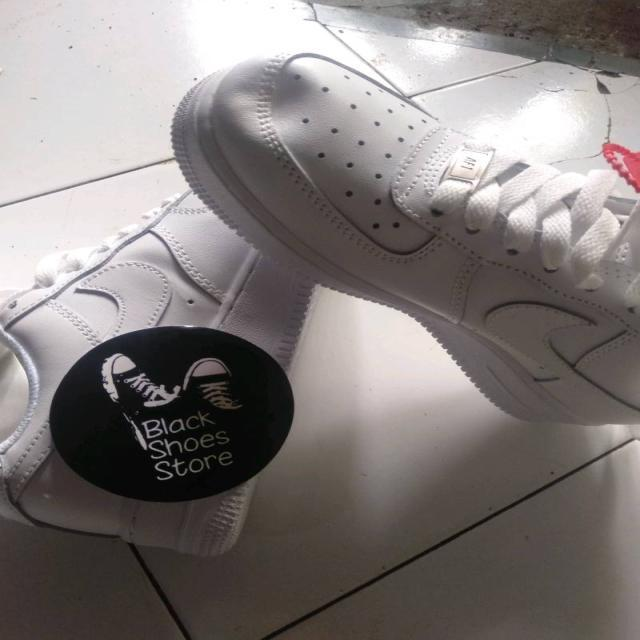nike fake air force: (168, 26, 640, 430)
